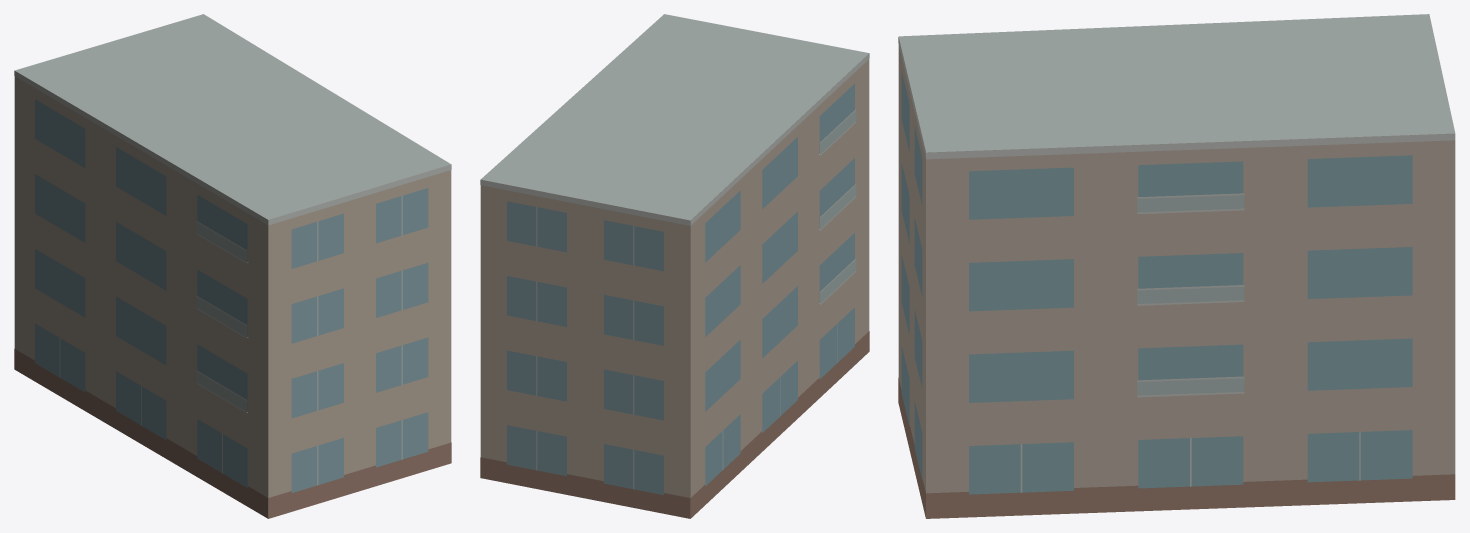
File: survey-upis-33019855.glb
3 renders of one model, left to right at view 1: azimuth 30°, elevation 25°; view 2: azimuth 150°, elevation 25°; view 3: azimuth 270°, elevation 25°, orthographic. The views are drawn at different scales.
Visible parts, largest first — view 1: survey-upis-33019855.tmp; view 2: survey-upis-33019855.tmp; view 3: survey-upis-33019855.tmp.
Part boxes in pixels (x1,y1,x2,y2): survey-upis-33019855.tmp: (14, 14, 451, 518); survey-upis-33019855.tmp: (480, 14, 869, 518); survey-upis-33019855.tmp: (898, 14, 1455, 518).
Bounding box in the file's own units: 10.63 × 13.1 × 18.06.
